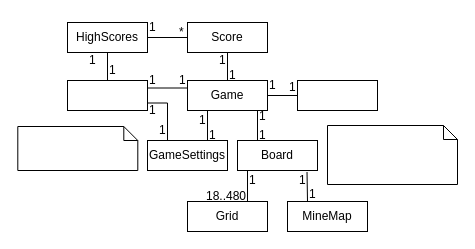
The diagram is 475 pixels wide and 249 high, and some of its shapes have lost their labels. Each missing label, with the box of its shape:
MineMap is used during board generation to abstract away creation logic: (326, 124, 458, 184)
StopWatch: (296, 80, 378, 110)
UI: (66, 80, 148, 110)
UI is actually more than one class but is simplified here: (17, 126, 138, 170)
